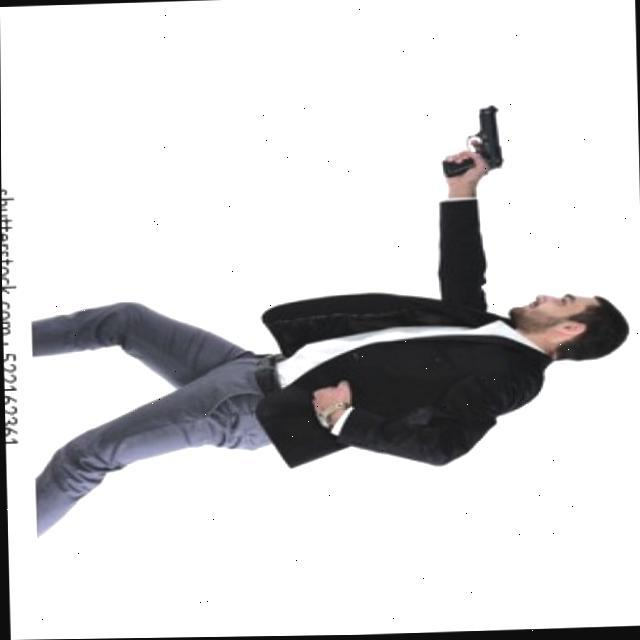gun: (440, 108, 503, 182)
